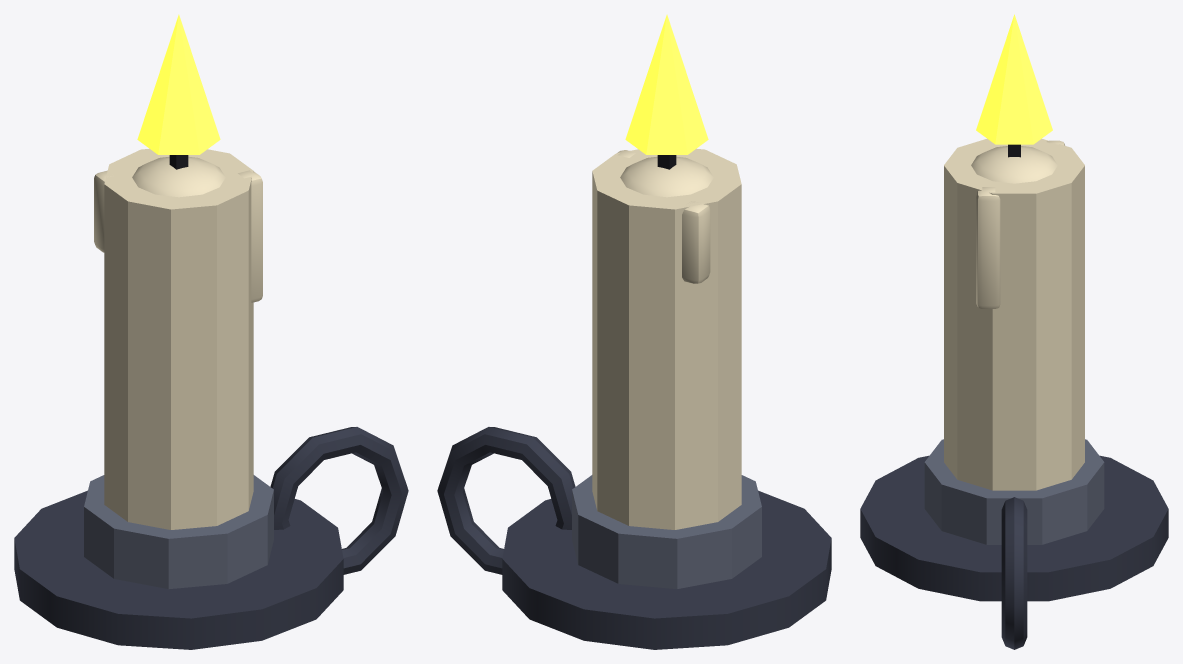
3 views of the same model, side by side, from view 1: azimuth 30°, elevation 25°; view 2: azimuth 150°, elevation 25°; view 3: azimuth 270°, elevation 25° (orthographic). The views are drawn at different scales.
Visible parts, largest first — view 1: Prop; view 2: Prop; view 3: Prop.
Boxes of the visible parts, x1,y1,x2,y2 form: Prop: [14, 14, 408, 649]; Prop: [437, 14, 831, 649]; Prop: [860, 14, 1168, 649].
Size of the model in its own units: 0.307 by 0.4771 by 0.24.
Materials: 1 (1 with a texture image).
